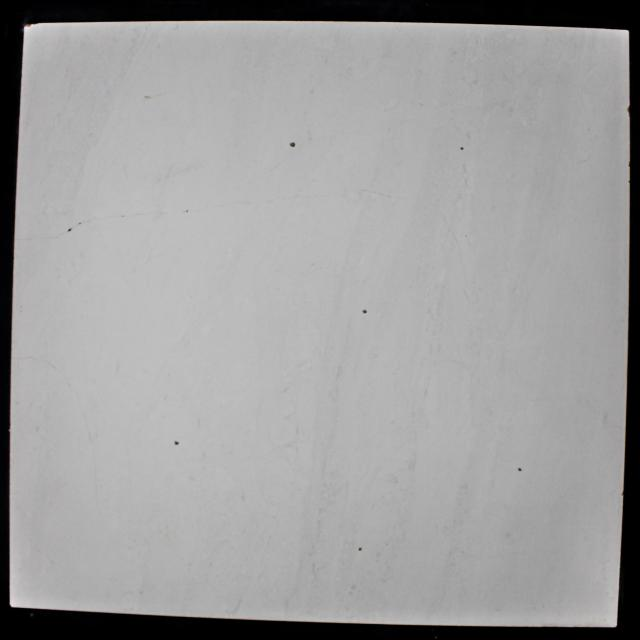edge-chipping: (24, 23, 33, 28)
hole: (288, 140, 298, 149), (626, 105, 631, 117), (517, 466, 523, 473), (357, 546, 364, 552), (173, 440, 180, 446), (459, 146, 465, 151), (362, 309, 368, 314), (67, 227, 73, 232), (186, 209, 188, 213)
line: (360, 188, 390, 198), (52, 232, 66, 240)
